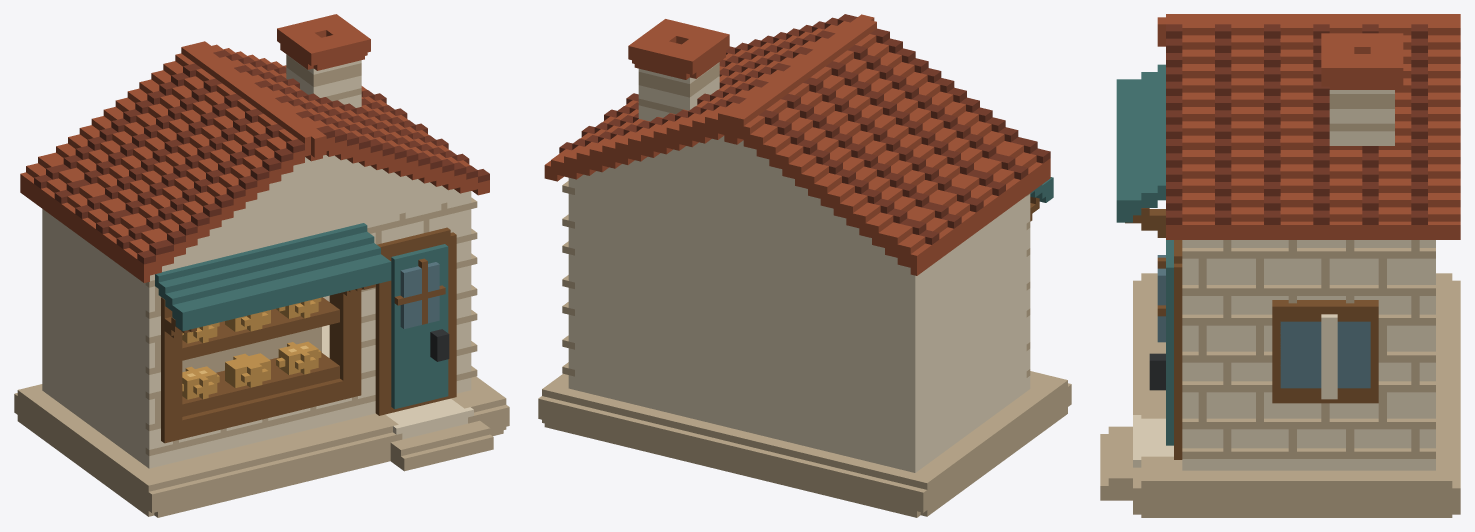
File: bakery_shop.glb
The picture shows the model from 3 angles, left to right: view 1: azimuth 30°, elevation 25°; view 2: azimuth 150°, elevation 25°; view 3: azimuth 270°, elevation 25°; orthographic projection. The views are drawn at different scales.
Visible parts, largest first — view 1: bakery_shop; view 2: bakery_shop; view 3: bakery_shop.
Part boxes in pixels (bbox=[...]): bakery_shop: bbox=[14, 14, 509, 517]; bakery_shop: bbox=[538, 14, 1071, 517]; bakery_shop: bbox=[1100, 14, 1460, 517].
Size of the model in its own units: 6.6 by 6.16 by 4.84.
